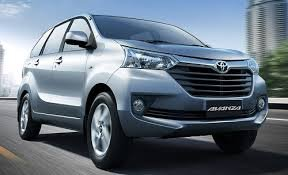mobil: (18, 12, 269, 168)
